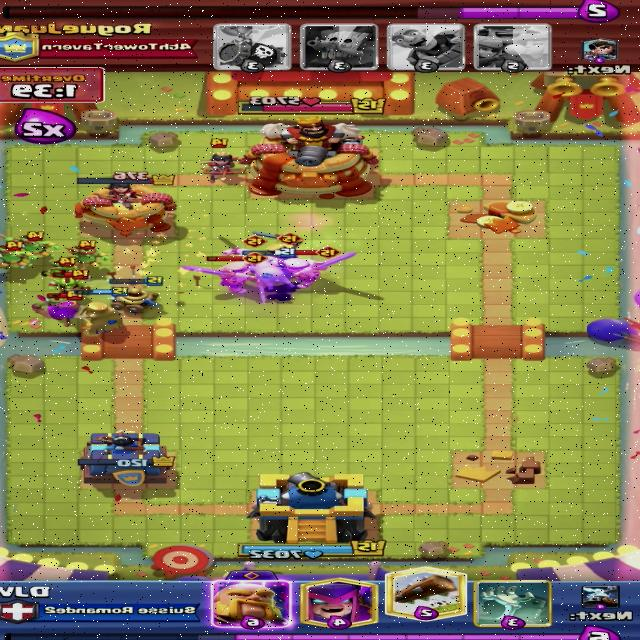Enemy-Barbarian-Evo: (181, 251, 267, 295), (275, 246, 359, 288), (248, 231, 304, 276), (222, 235, 277, 280)
Enemy-Goblin: (31, 290, 76, 319), (49, 270, 89, 298), (41, 256, 76, 281)
Enemy-Princess: (200, 138, 250, 185)
Enemy-SpearGoblin: (0, 230, 62, 259), (61, 240, 112, 268), (0, 241, 38, 269)
Player-CursedHog: (241, 248, 297, 289)
Player-Motherwitch: (68, 287, 147, 337)
Player-PEKKA: (216, 26, 292, 73)
Player-Zappy: (110, 276, 166, 313)
